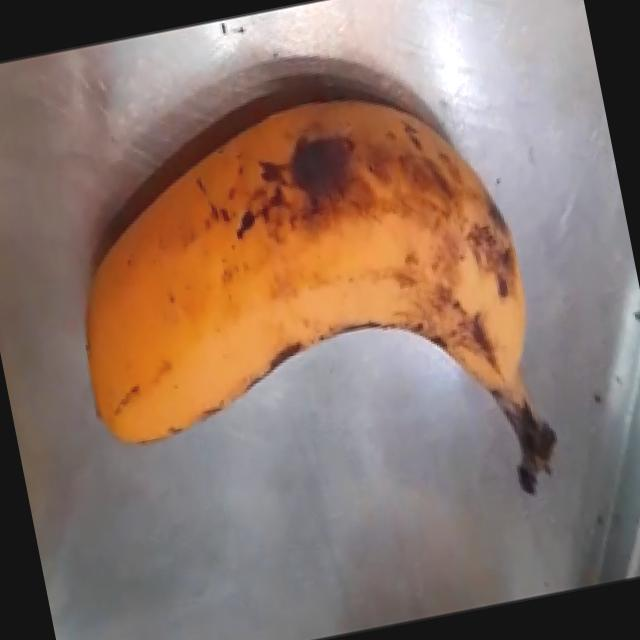Rotten_Banana: (0, 44, 567, 516)
